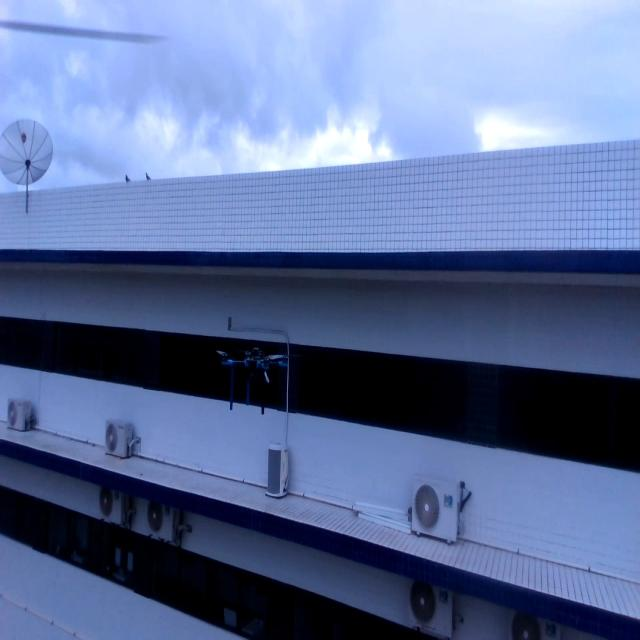-uav-: (211, 334, 304, 426)
